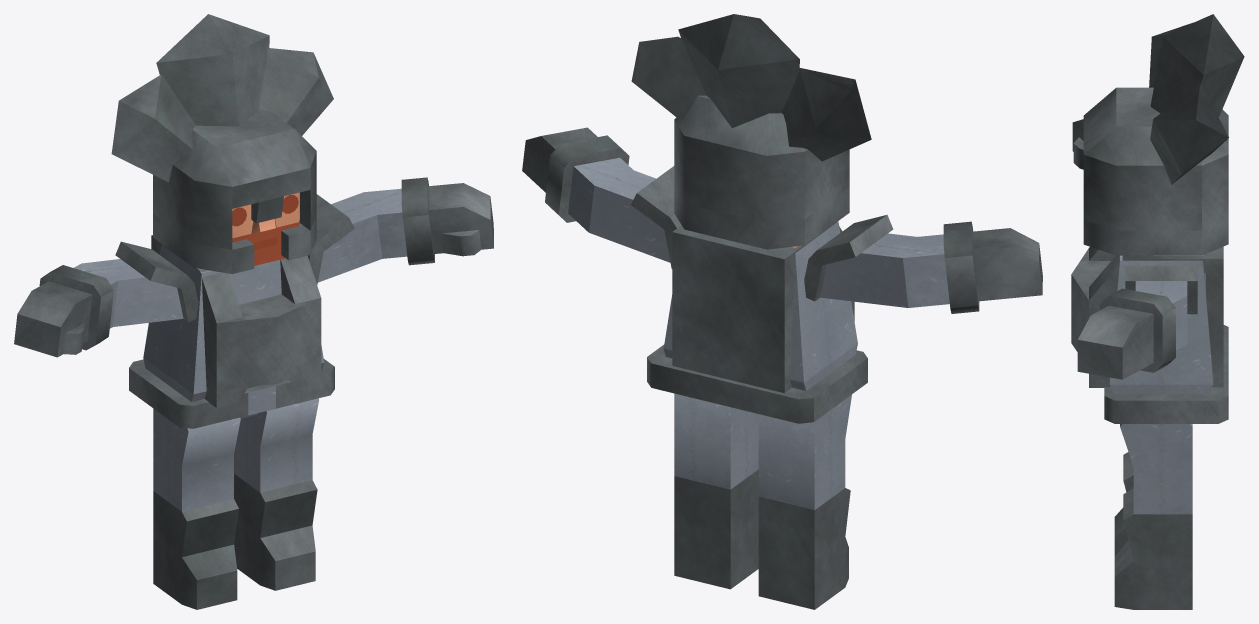
The model's file is Soldier_Bugler.obj.
The picture shows the model from 3 angles, left to right: view 1: azimuth 30°, elevation 25°; view 2: azimuth 150°, elevation 25°; view 3: azimuth 270°, elevation 25°; orthographic projection. The views are drawn at different scales.
Visible parts, largest first — view 1: leg_boots, arm_glove, blade_skew, headwear_helmet, armor_torso, torso_default, belt_default, head_default; view 2: leg_boots, arm_glove, headwear_helmet, blade_skew, armor_torso, belt_default, torso_default; view 3: headwear_helmet, leg_boots, blade_skew, arm_glove, armor_torso, torso_default, belt_default.
Part boxes in pixels (x1,y1,x2,y2): leg_boots: (153,398,318,609); arm_glove: (14,177,493,357); blade_skew: (111,14,333,182); headwear_helmet: (153,110,316,273); armor_torso: (151,235,321,407); torso_default: (143,244,324,418); belt_default: (129,359,334,428); head_default: (232,192,299,265); leg_boots: (674,393,851,609); arm_glove: (522,127,1042,313); headwear_helmet: (674,95,849,249); blade_skew: (631,14,871,161); armor_torso: (672,222,854,393); belt_default: (647,344,867,423); torso_default: (663,221,857,390); headwear_helmet: (1083,87,1228,255); leg_boots: (1114,390,1192,609); blade_skew: (1149,14,1244,184); arm_glove: (1072,119,1197,379); armor_torso: (1071,246,1223,387); torso_default: (1109,255,1213,393); belt_default: (1104,325,1228,423).
Bounding box in the file's own units: 1.11 × 1.2 × 0.3342.
Materials: 6 (2 with a texture image).
